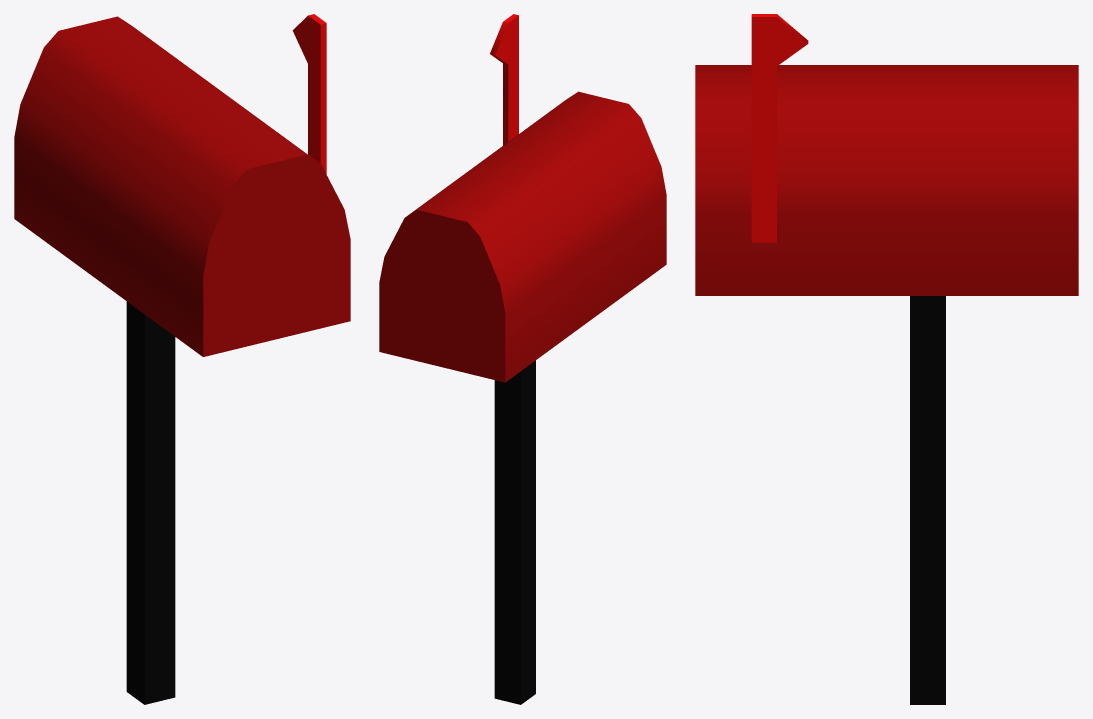
The model's file is mailbox.obj.
The picture shows the model from 3 angles, left to right: view 1: azimuth 30°, elevation 25°; view 2: azimuth 150°, elevation 25°; view 3: azimuth 270°, elevation 25°; orthographic projection. The views are drawn at different scales.
Parts seen in each view (by area): view 1: Box003, Box002, Box004; view 2: Box003, Box002, Box004; view 3: Box003, Box002, Box004.
Part boxes in pixels (box(x1,y1,x2,y2)): Box003: box(14, 16, 350, 356); Box002: box(126, 301, 175, 704); Box004: box(292, 14, 326, 174); Box003: box(379, 91, 666, 382); Box002: box(494, 360, 535, 704); Box004: box(490, 14, 518, 145); Box003: box(695, 65, 1078, 295); Box002: box(910, 296, 945, 704); Box004: box(751, 14, 808, 242).
Bounding box in the file's own units: 0.4924 × 2.22 × 1.06.
Materials: 1 (1 with a texture image).
